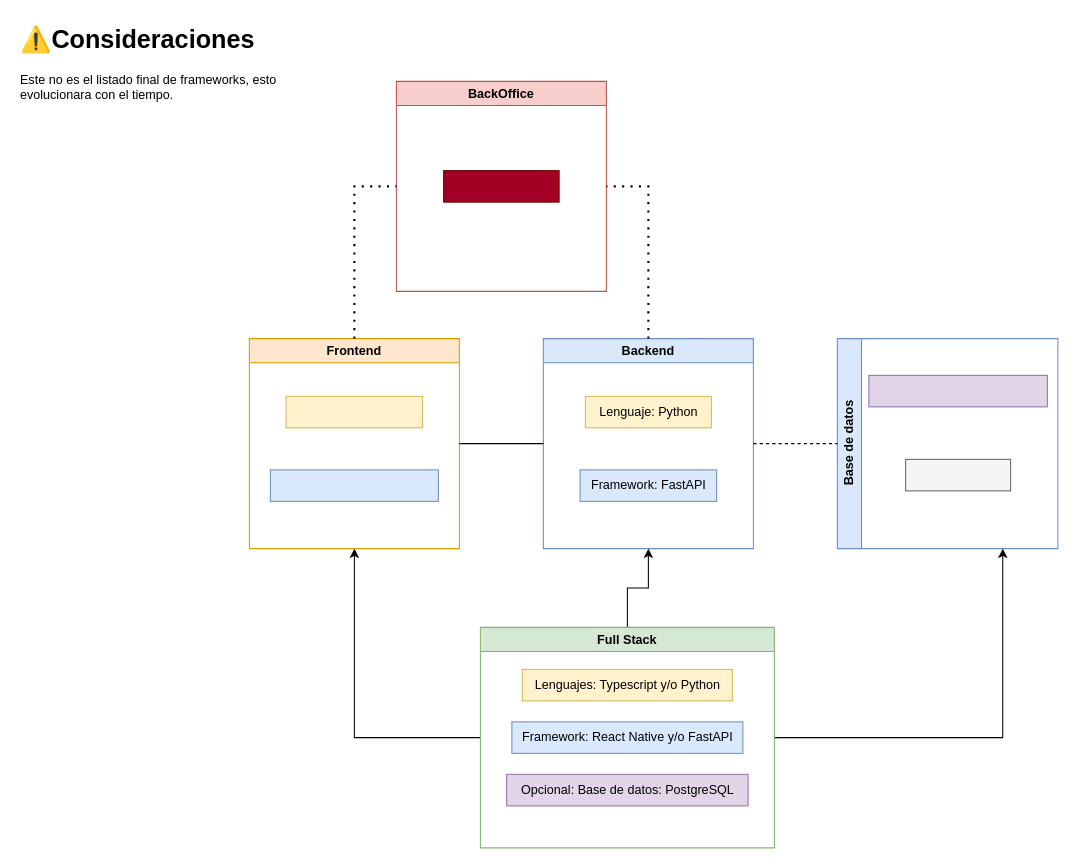
This 1076x866 diagram has some shape labels left out. Here are the shapes that lost their labels. From the top down, the centre of each, then its label:
[501,186]: [Por Definir]
[957,390]: Base de datos: PostgreSQL
[354,411]: Lenguaje: Typescript
[353,485]: Framework: React Native
[958,474]: Servidor: AWS
